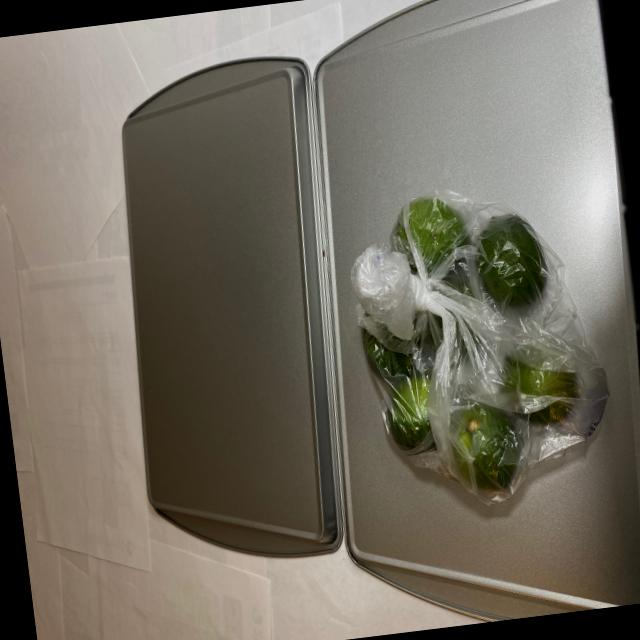lemon: (343, 184, 595, 511)
